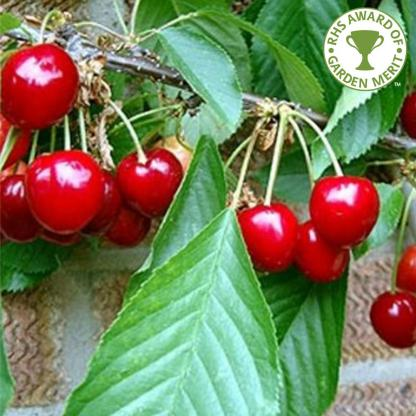Cherry leaf: (67, 209, 283, 416), (151, 27, 255, 140)
